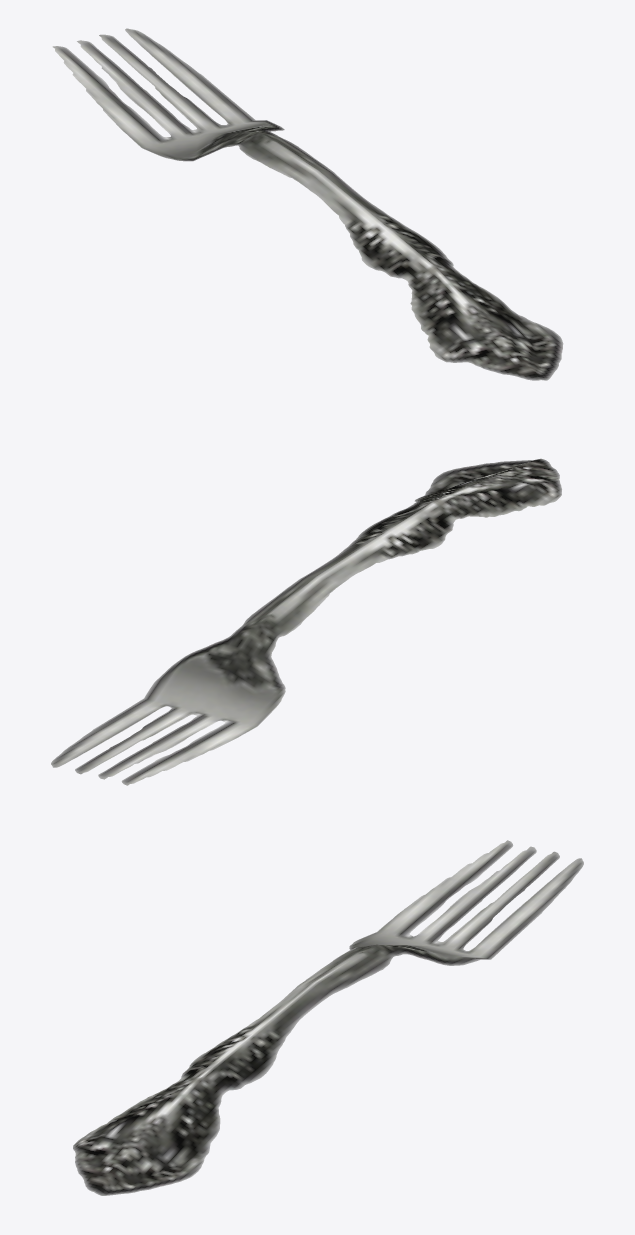
File: Fork.fbx
3 views of the same model, one above another, from view 1: azimuth 30°, elevation 25°; view 2: azimuth 150°, elevation 25°; view 3: azimuth 330°, elevation 25° (orthographic).
Parts seen in each view (by area): view 1: Fork_LOD0; view 2: Fork_LOD0; view 3: Fork_LOD0.
Boxes of the visible parts, x1,y1,x2,y2 form: Fork_LOD0: (52, 28, 563, 380); Fork_LOD0: (51, 458, 561, 785); Fork_LOD0: (73, 840, 583, 1195).
Size of what is drawn, in the model's own units: 8.61 by 2.99 by 51.17.
